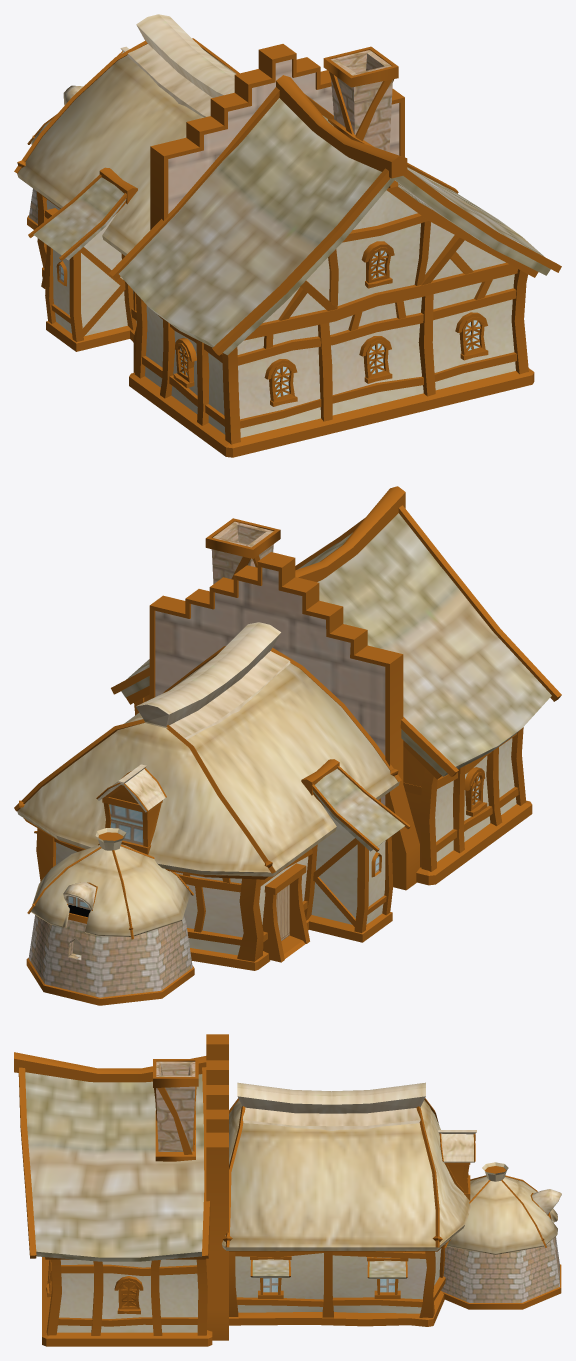
File: house2.FBX
3 renders of one model, top to bottom at view 1: azimuth 30°, elevation 25°; view 2: azimuth 150°, elevation 25°; view 3: azimuth 270°, elevation 25°, orthographic. The views are drawn at different scales.
Visible parts, largest first — view 1: Shape068; view 2: Shape068; view 3: Shape068.
Boxes of the visible parts, bbox=[...] form: Shape068: bbox=[14, 14, 561, 457]; Shape068: bbox=[14, 486, 561, 1005]; Shape068: bbox=[14, 1034, 561, 1346].
Size of the model in its own units: 2000 by 1601 by 3242.
Materials: 1 (1 with a texture image).
